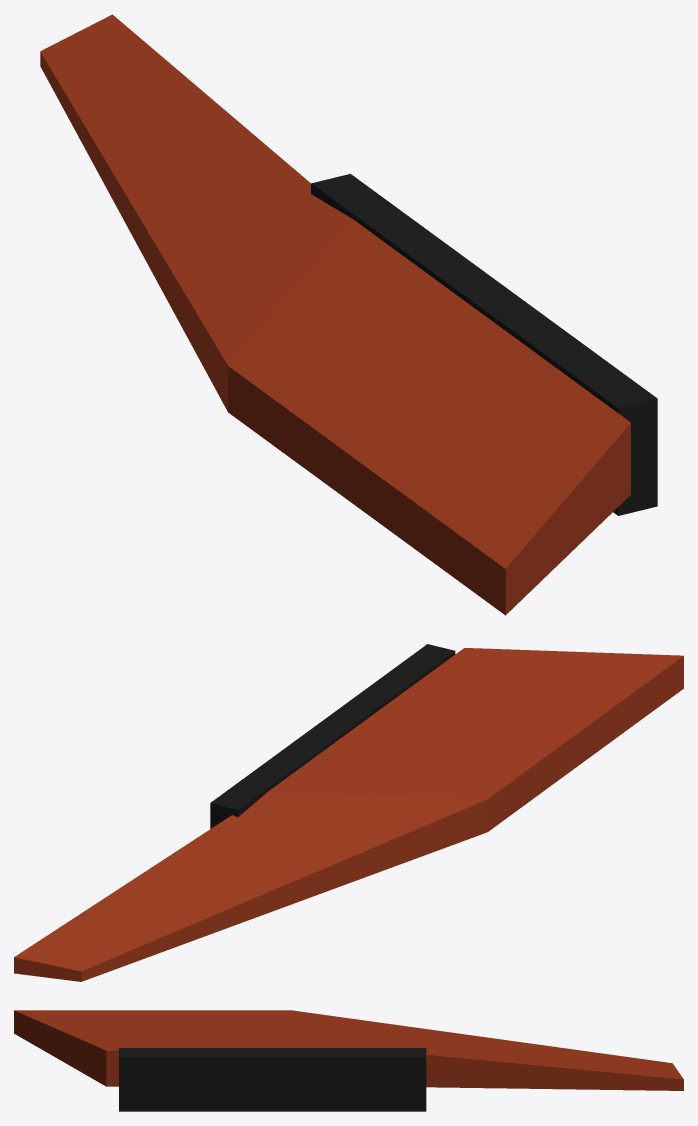
The model's file is skrzydło_2.fbx.
The picture shows the model from 3 angles, top to bottom: view 1: azimuth 30°, elevation 25°; view 2: azimuth 150°, elevation 25°; view 3: azimuth 270°, elevation 25°; orthographic projection. The views are drawn at different scales.
Visible parts, largest first — view 1: Cube.000; view 2: Cube.000; view 3: Cube.000.
Part boxes in pixels (x1=…): Cube.000: x1=40, y1=14, x2=657, y2=615; Cube.000: x1=14, y1=644, x2=683, y2=981; Cube.000: x1=14, y1=1010, x2=683, y2=1111.
Bounding box in the file's own units: 129 × 48 × 541.
